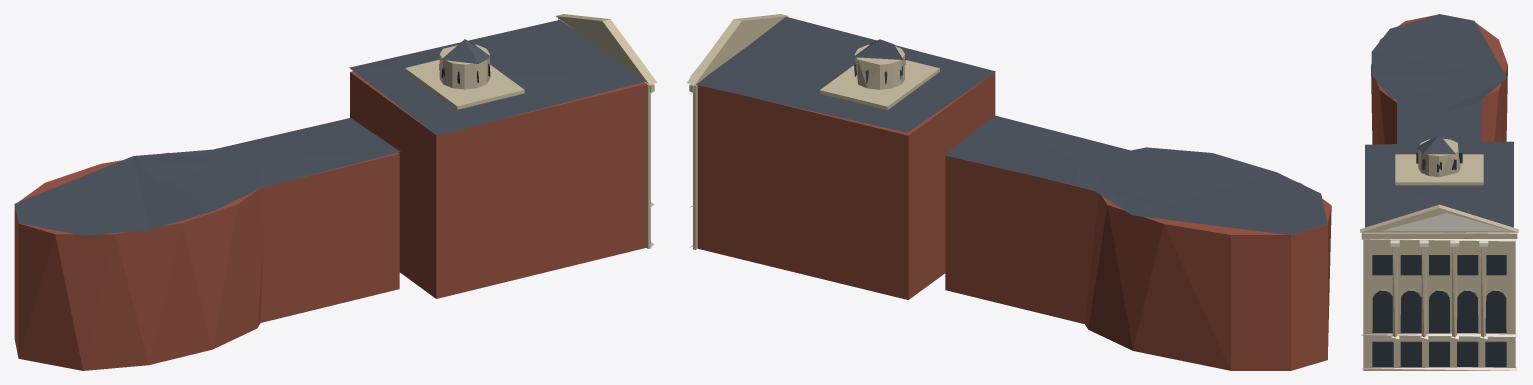
Rendered from felix-meritis.lod1.glb.
The picture shows the model from 3 angles, left to right: view 1: azimuth 30°, elevation 25°; view 2: azimuth 150°, elevation 25°; view 3: azimuth 270°, elevation 25°; orthographic projection. The views are drawn at different scales.
Visible parts, largest first — view 1: felix-meritis; view 2: felix-meritis; view 3: felix-meritis.
Part boxes in pixels (x1=…): felix-meritis: x1=14, y1=14, x2=657, y2=370; felix-meritis: x1=686, y1=14, x2=1331, y2=370; felix-meritis: x1=1360, y1=14, x2=1518, y2=370.
Size of the model in its own units: 87.33 by 29.6 by 23.93.
